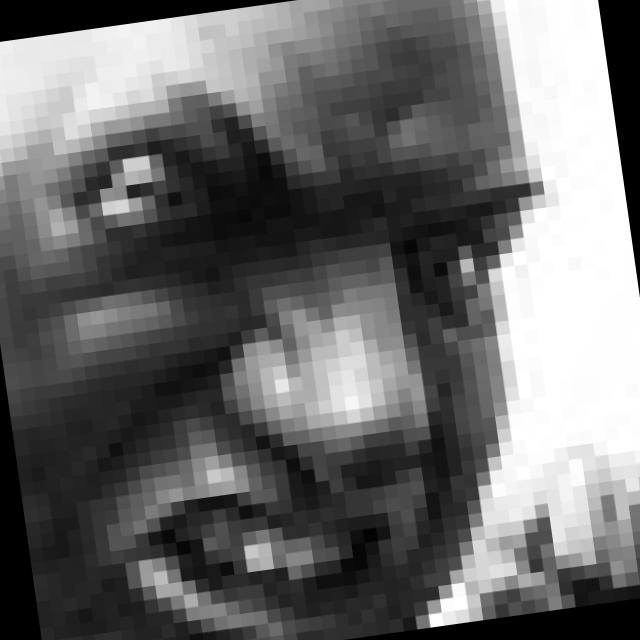angry: (51, 29, 599, 640)
